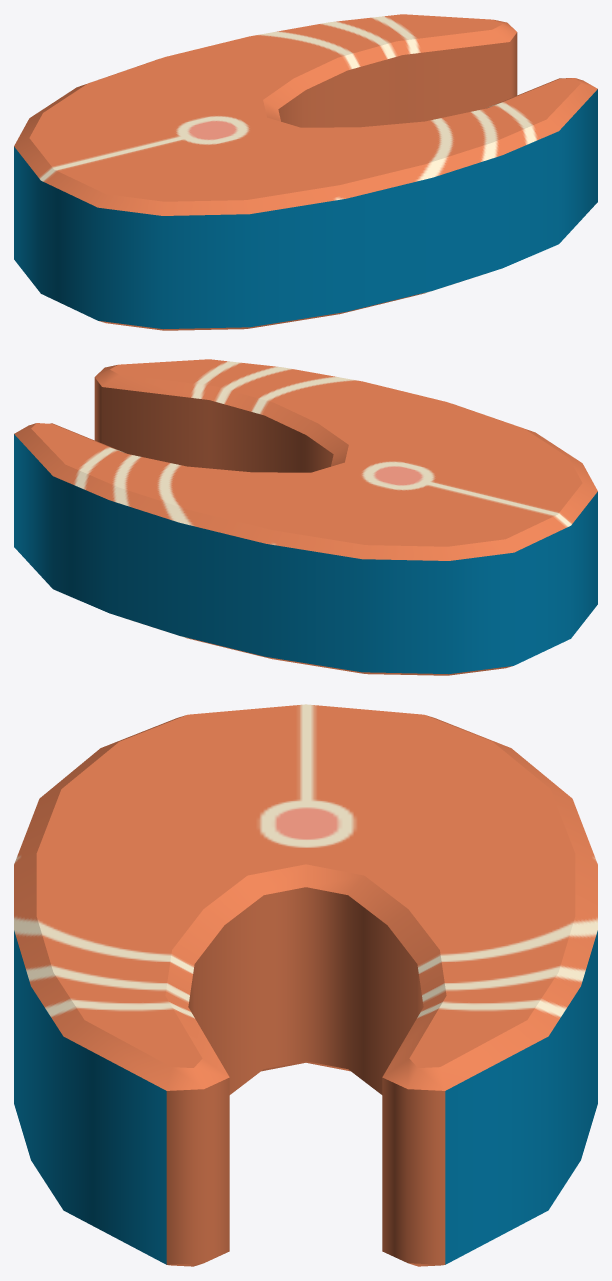
The model's file is Fish_02_Ready_01.fbx.
3 views of the same model, one above another, from view 1: azimuth 30°, elevation 25°; view 2: azimuth 150°, elevation 25°; view 3: azimuth 270°, elevation 25° (orthographic). The views are drawn at different scales.
Parts seen in each view (by area): view 1: Fish_02_Ready_01; view 2: Fish_02_Ready_01; view 3: Fish_02_Ready_01.
Boxes of the visible parts, left/top/right/bottom form: Fish_02_Ready_01: left=14, top=14, right=597, bottom=330; Fish_02_Ready_01: left=14, top=359, right=597, bottom=675; Fish_02_Ready_01: left=14, top=704, right=597, bottom=1266.
Bounding box in the file's own units: 38.25 × 9.21 × 24.57.
